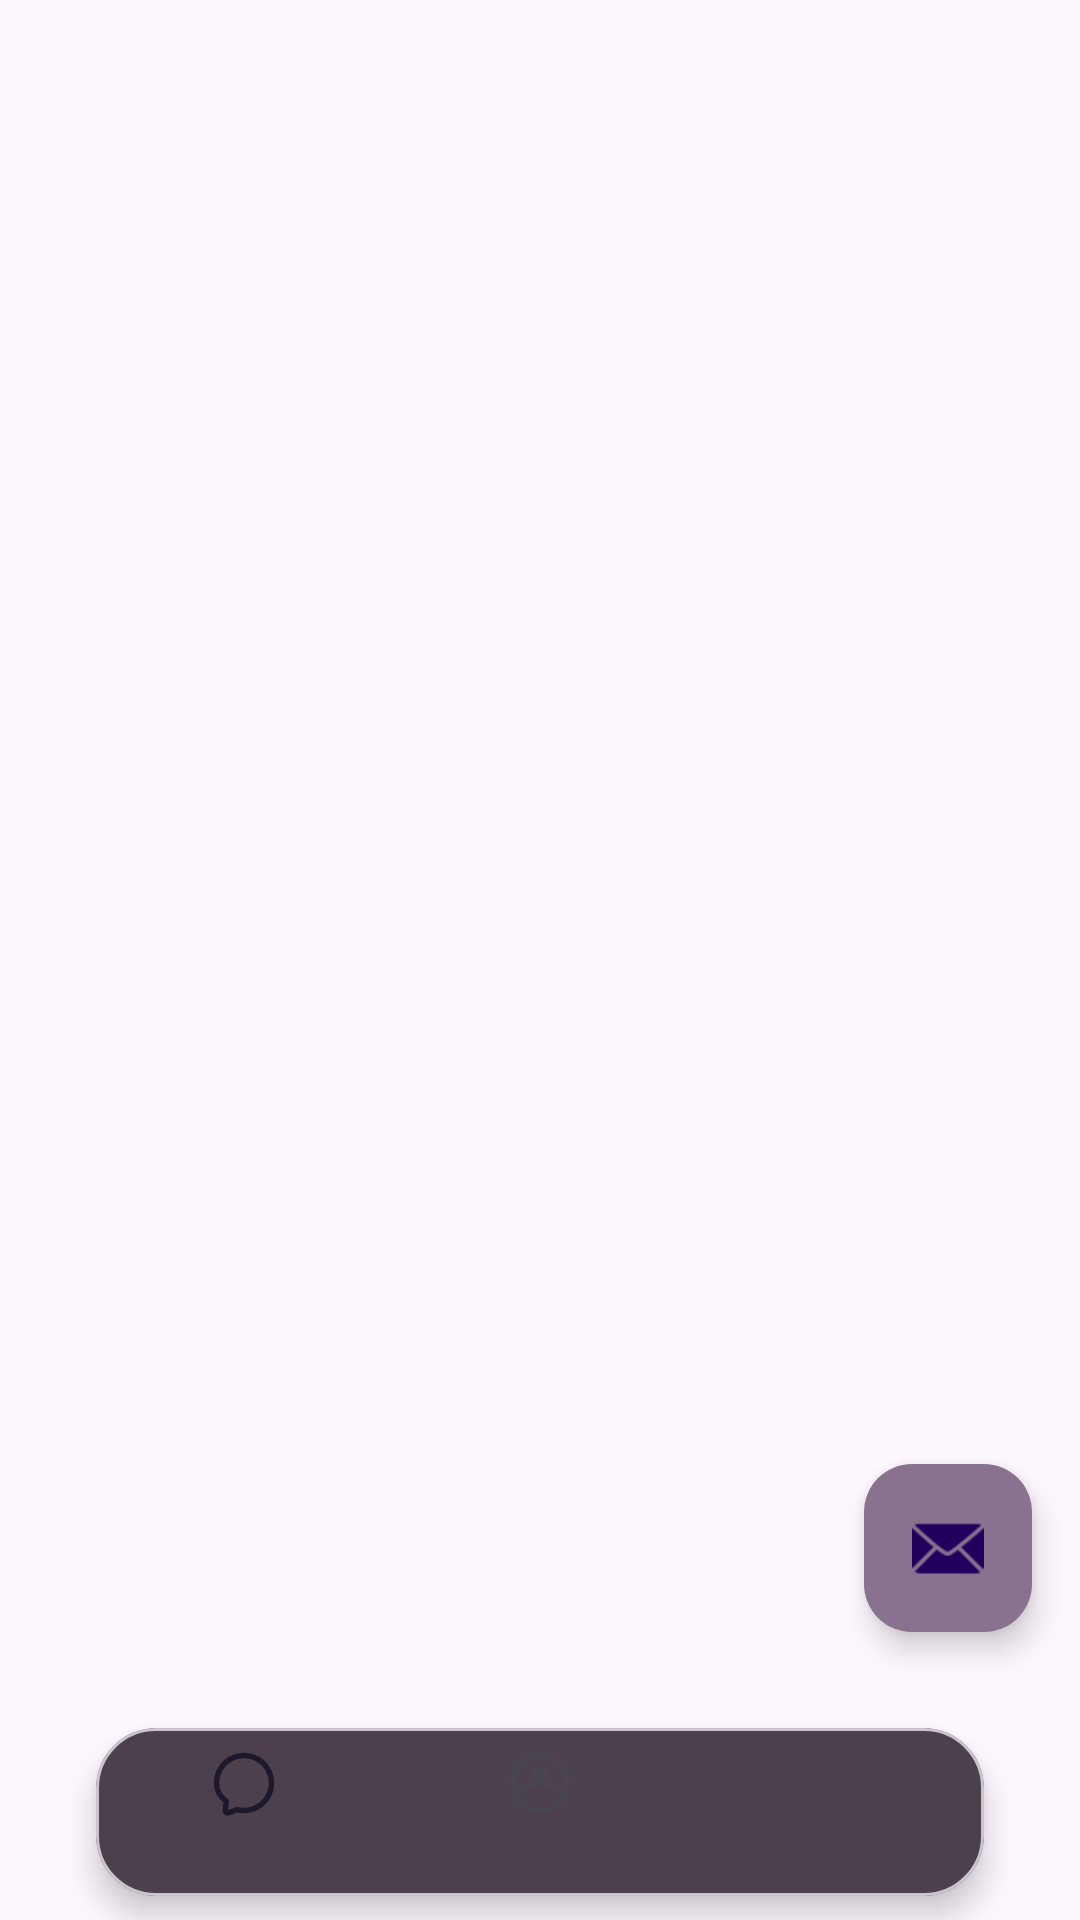

Where to tap for icons on this 1080w x 1920h app screen, as point (x, y):
new chat: point (948, 1548)
